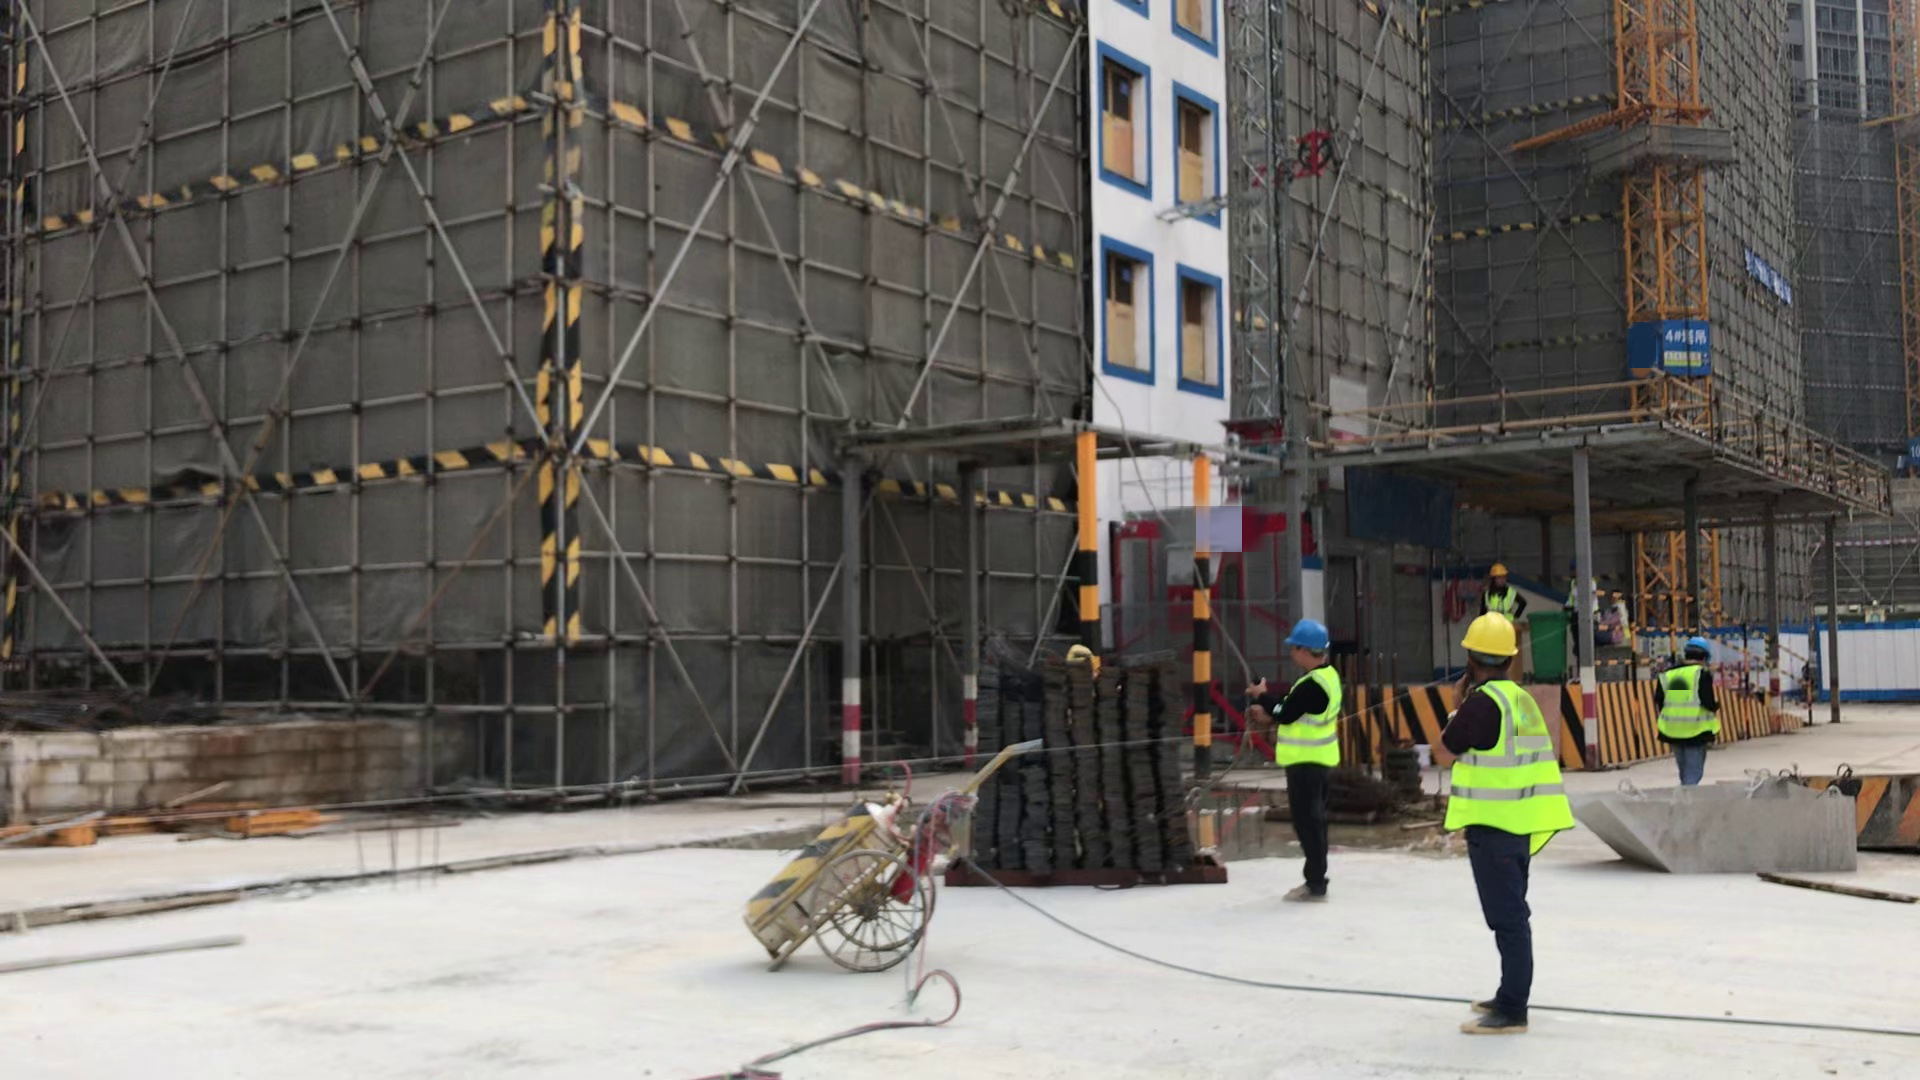fence: (1606, 580, 1803, 693)
handcart: (758, 699, 1142, 1001)
helmet: (1464, 612, 1524, 657), (1288, 619, 1332, 652), (1684, 630, 1714, 662), (1491, 563, 1516, 578)
hopper: (1565, 775, 1859, 870), (1773, 756, 1920, 853)
person: (1435, 607, 1577, 1050), (1244, 621, 1351, 911), (1649, 632, 1726, 787), (1565, 559, 1600, 653), (1476, 560, 1528, 621), (1607, 586, 1637, 652)
slogan: (1714, 234, 1824, 324)
vest: (1446, 675, 1572, 854), (1273, 666, 1342, 765), (1656, 663, 1720, 739), (1487, 584, 1521, 618)
